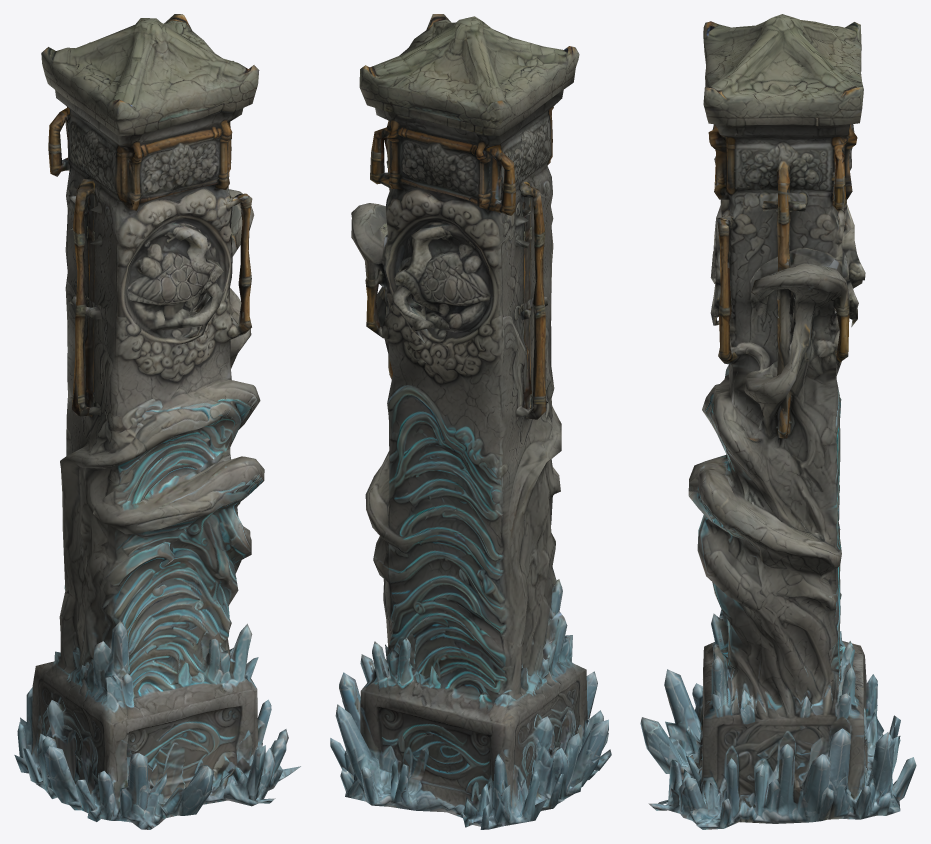
Rendered from PR_FogGatePillar.fbx.
The picture shows the model from 3 angles, left to right: view 1: azimuth 30°, elevation 25°; view 2: azimuth 150°, elevation 25°; view 3: azimuth 270°, elevation 25°; orthographic projection.
Visible parts, largest first — view 1: texture_mapping; view 2: texture_mapping; view 3: texture_mapping.
Part boxes in pixels (left/top/right/bottom): texture_mapping: left=14, top=14, right=300, bottom=829; texture_mapping: left=330, top=14, right=611, bottom=829; texture_mapping: left=640, top=14, right=916, bottom=829.
Size of the model in its own units: 0.3218 by 0.3269 by 0.9984.
1 material, 1 textured.
